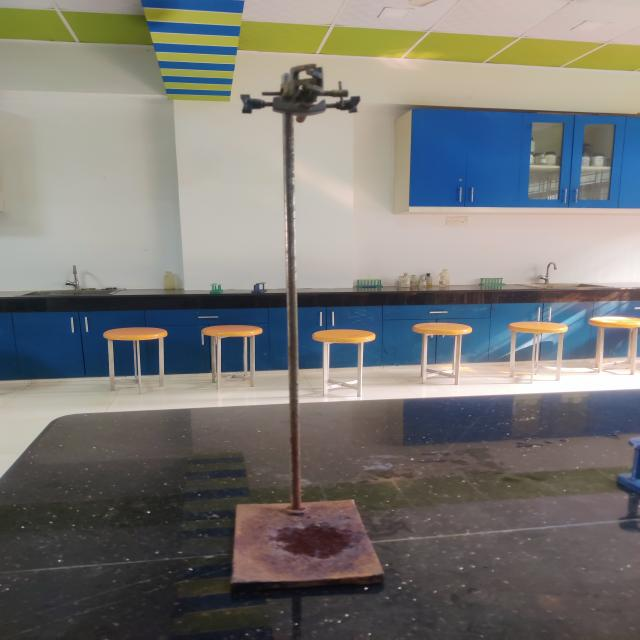Burette_Stands: (203, 37, 410, 617)
